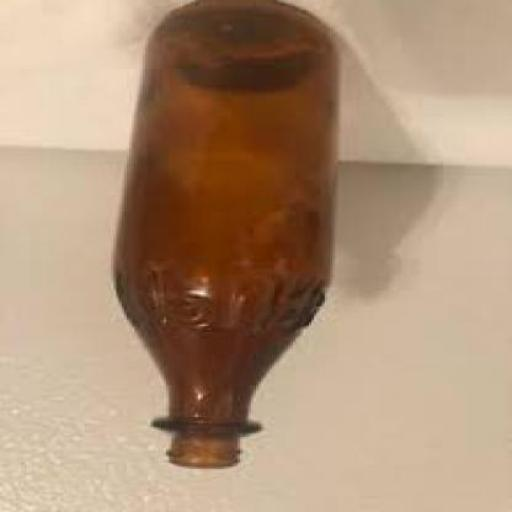glass: (108, 2, 338, 437)
